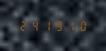four: (29, 20, 40, 31)
nine: (54, 20, 65, 31)
one: (42, 20, 53, 31), (66, 20, 77, 31)
two: (17, 20, 28, 31)
zero: (78, 20, 89, 31)
